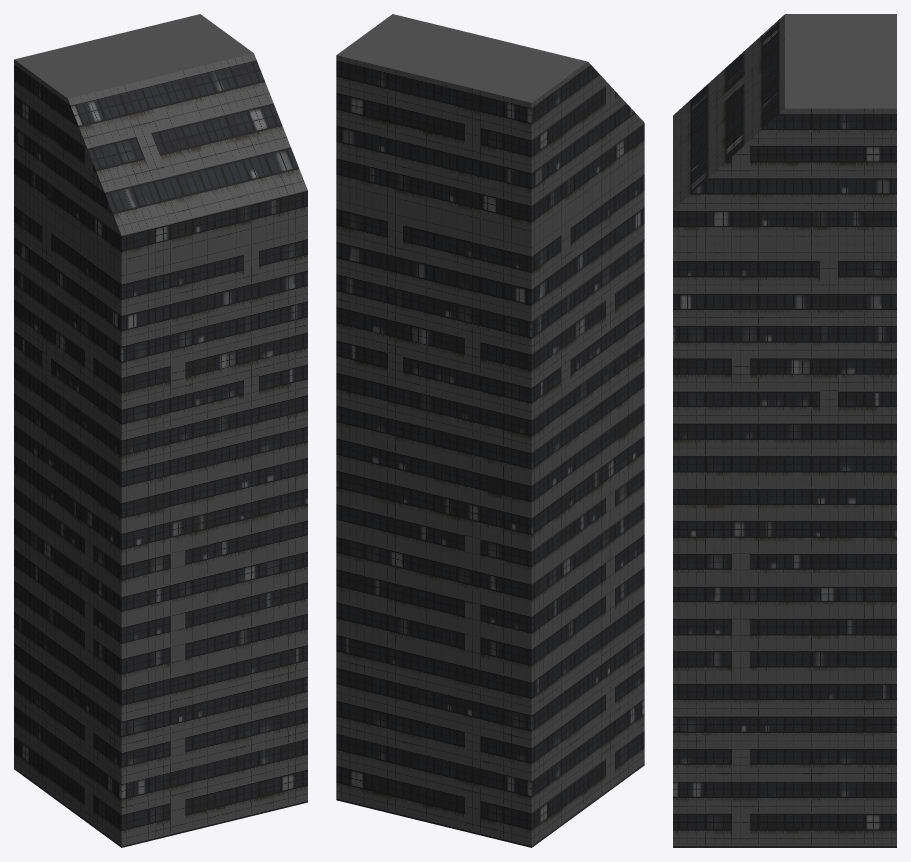
The model's file is Mesh_Office-Slope.fbx.
3 renders of one model, left to right at view 1: azimuth 30°, elevation 25°; view 2: azimuth 150°, elevation 25°; view 3: azimuth 270°, elevation 25°, orthographic. The views are drawn at different scales.
Parts seen in each view (by area): view 1: Mesh-Office-Slope; view 2: Mesh-Office-Slope; view 3: Mesh-Office-Slope.
Part boxes in pixels (<box>): Mesh-Office-Slope: <box>14,14,307,847</box>; Mesh-Office-Slope: <box>336,14,644,847</box>; Mesh-Office-Slope: <box>673,14,896,847</box>.
Size of the model in its own units: 20 by 72.87 by 20.
